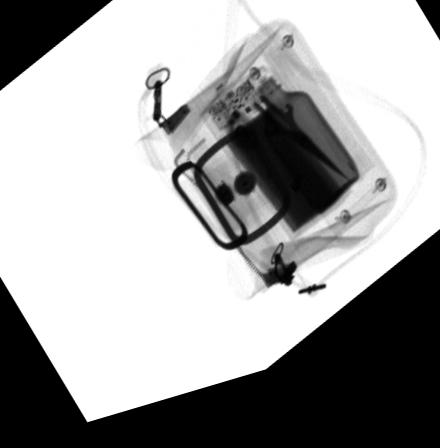Powerbank: (198, 79, 347, 260)
Scissors: (224, 78, 354, 204)
